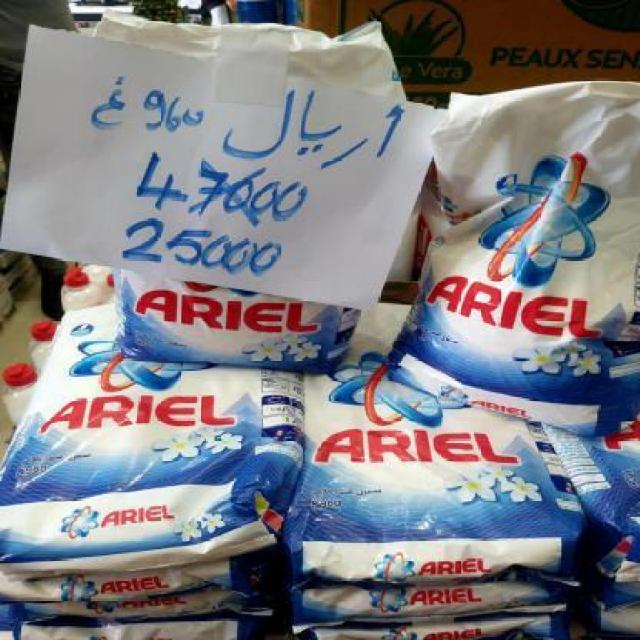Detergent: (417, 79, 638, 415), (2, 331, 280, 558), (285, 376, 560, 578), (119, 280, 343, 378)
